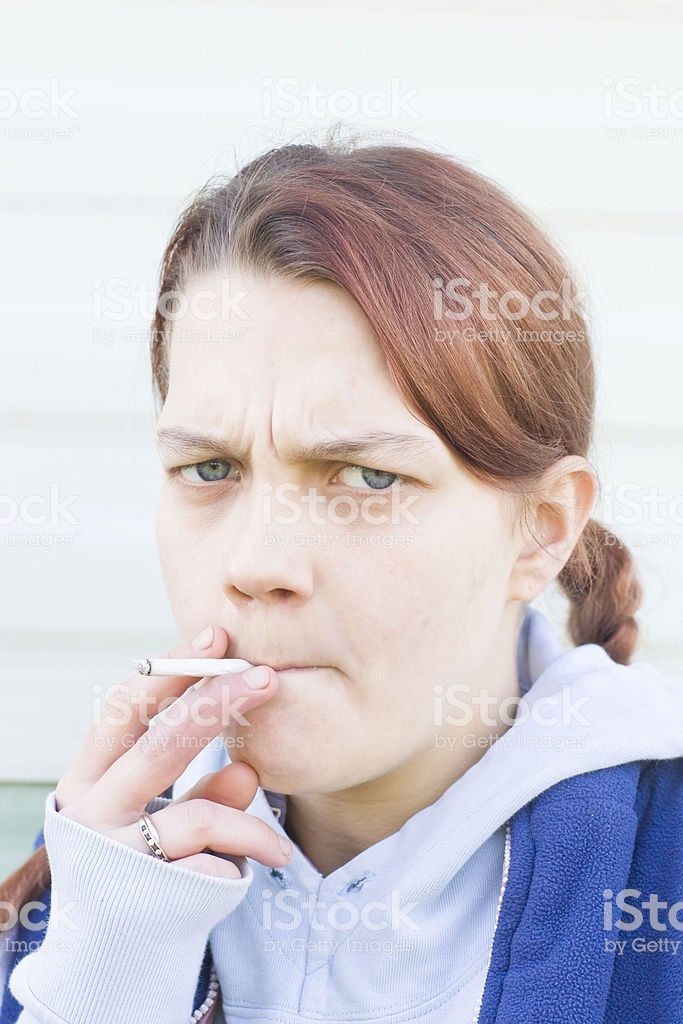sigaretta: (136, 649, 250, 695)
